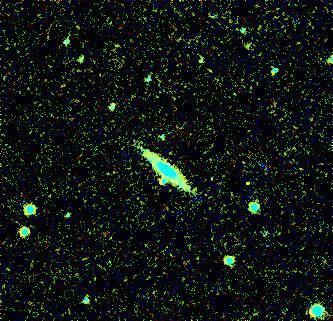star: (235, 169, 265, 199)
